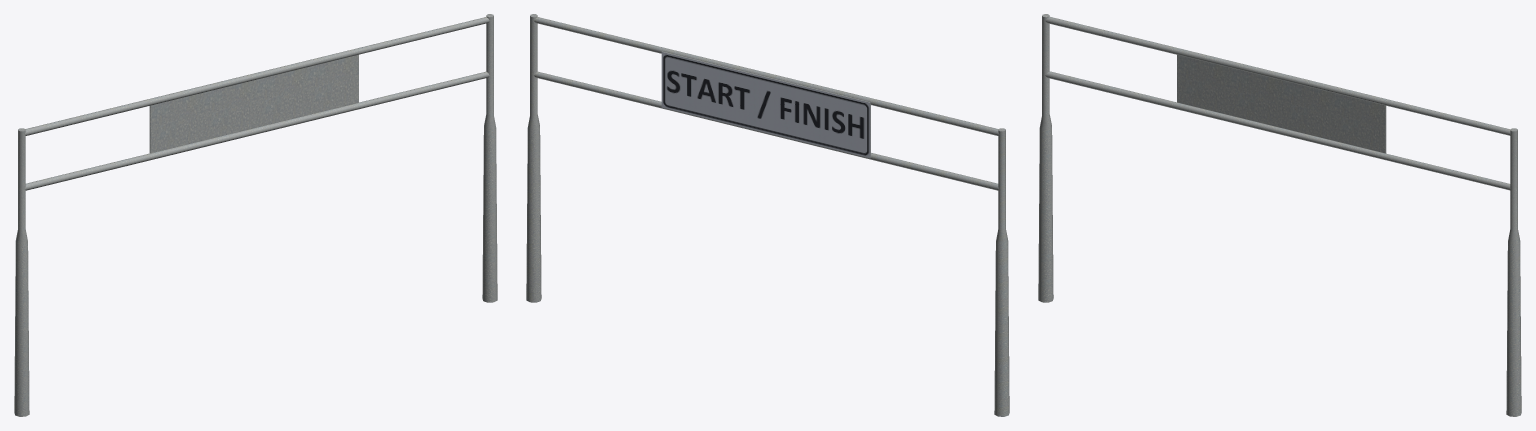
File: StartFinishPost.FBX
The picture shows the model from 3 angles, left to right: view 1: azimuth 30°, elevation 25°; view 2: azimuth 150°, elevation 25°; view 3: azimuth 330°, elevation 25°; orthographic projection.
Visible parts, largest first — view 1: StartFinishPost; view 2: StartFinishPost; view 3: StartFinishPost.
Part boxes in pixels (box(x1,y1,x2,y2)): StartFinishPost: box(14, 14, 497, 416); StartFinishPost: box(526, 14, 1009, 416); StartFinishPost: box(1038, 14, 1521, 416).
Size of the model in its own units: 8510 by 4793 by 240.
